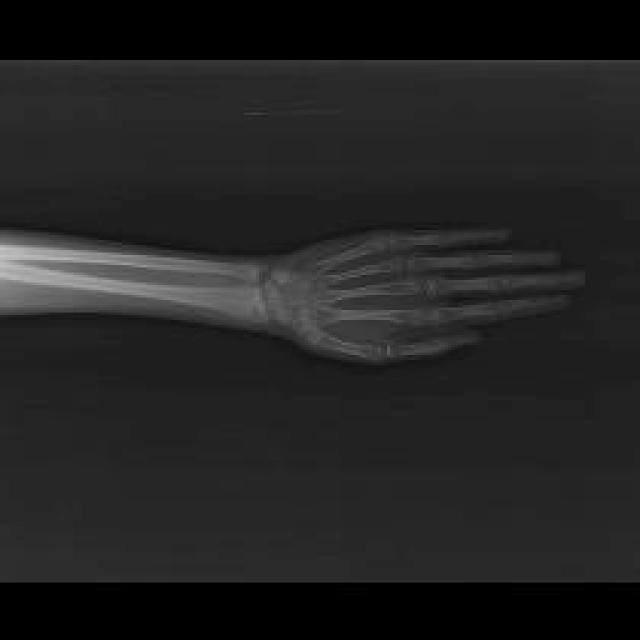normal: (0, 229, 580, 354)
